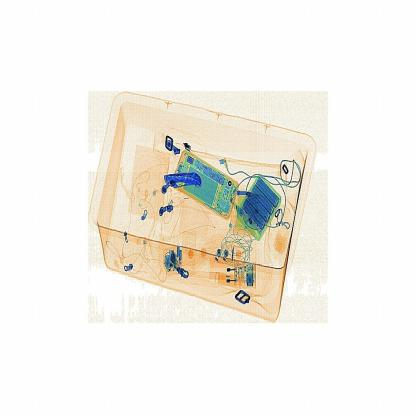knife: (160, 166, 210, 197)
